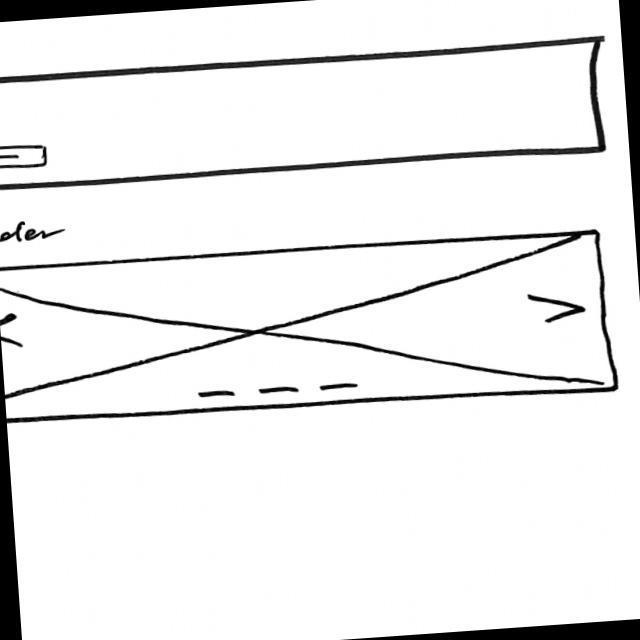container: (1, 34, 608, 198)
icon-button: (1, 139, 50, 170)
image: (1, 222, 618, 435)
label: (1, 220, 66, 247)
